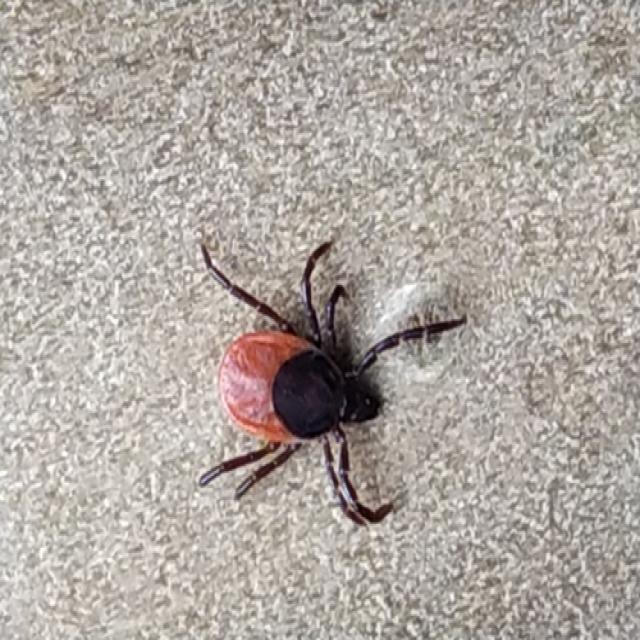Ixodes Ricinus-F: (200, 236, 465, 524)
